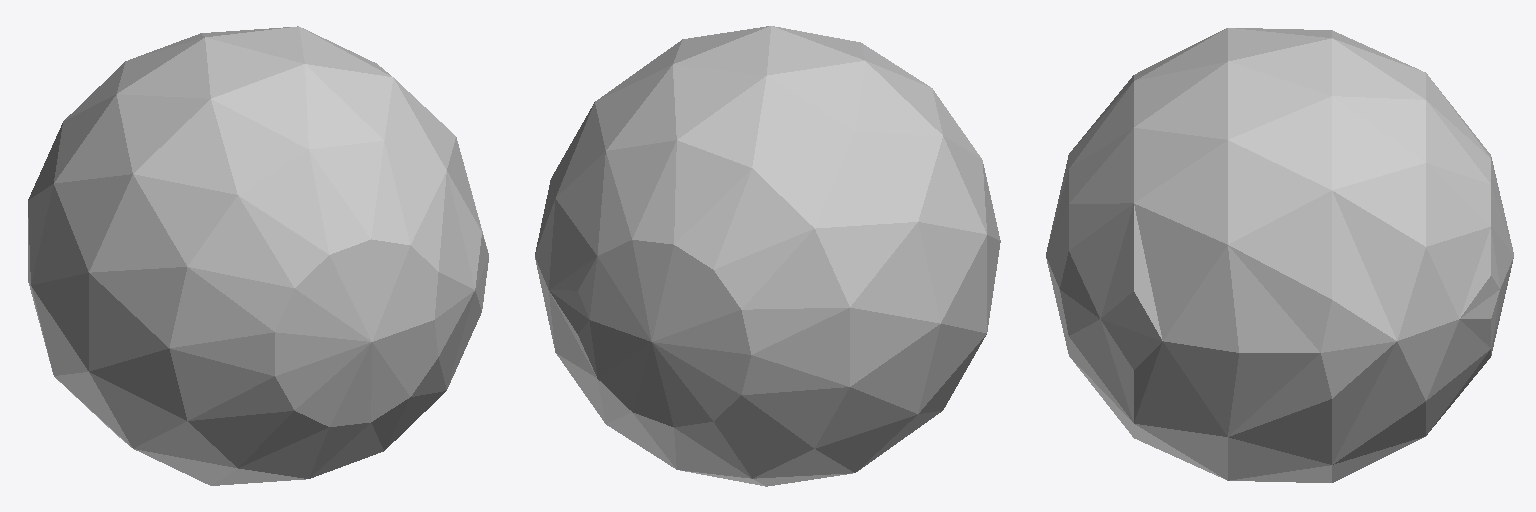
File: ball-Sphere.obj
3 views of the same model, side by side, from view 1: azimuth 30°, elevation 25°; view 2: azimuth 150°, elevation 25°; view 3: azimuth 270°, elevation 25° (orthographic).
Bounding box in the file's own units: 1960 × 1936 × 2000.